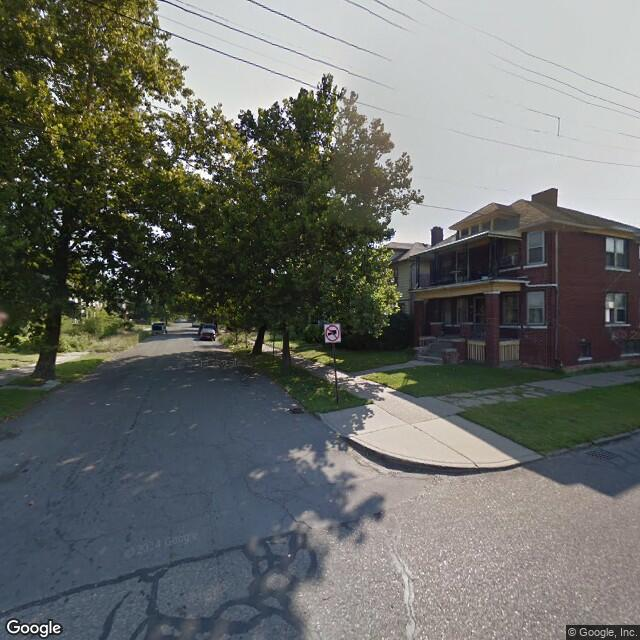litter: (285, 401, 297, 412), (291, 405, 304, 415)
